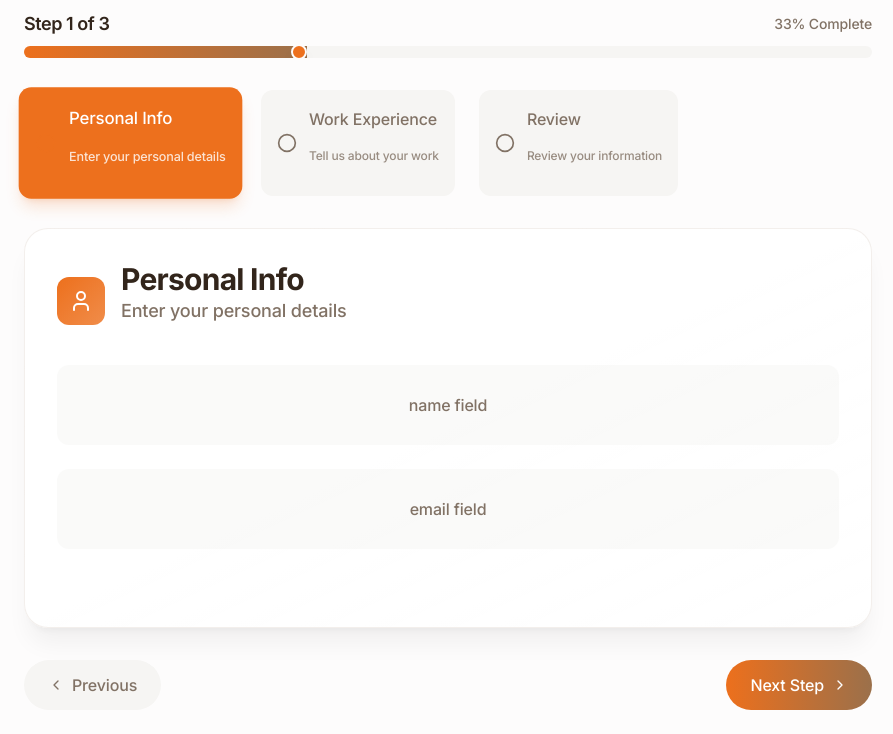
Test: EnhancedMultiStepForm › Navigation › should show Complete Setup button on last step
# Navigate to last step by clicking Next twice
Click the button "Next Step".
click(799, 685)  # box [726,660,872,710]
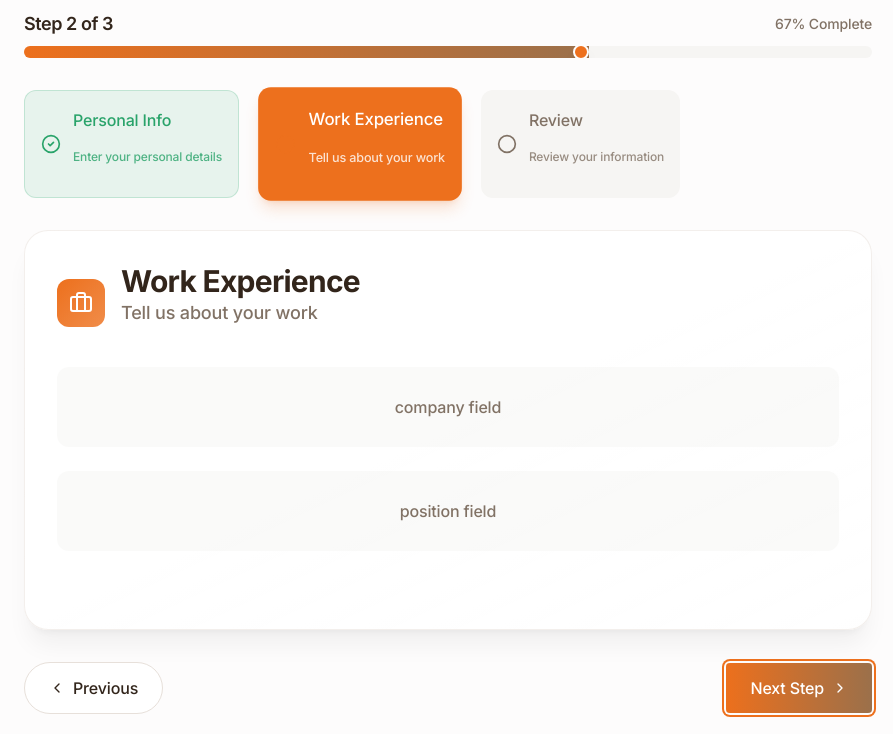
Click the button "Next Step".
click(799, 688)  # box [726,663,872,713]
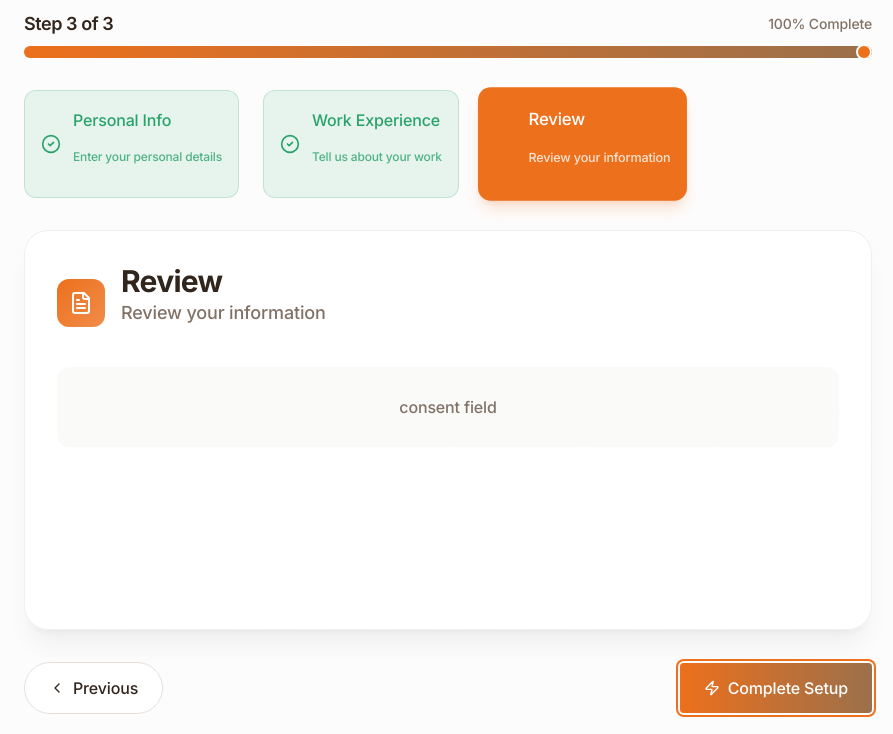
expect the button "Complete Setup" is shown: met, box [680,663,872,713]
